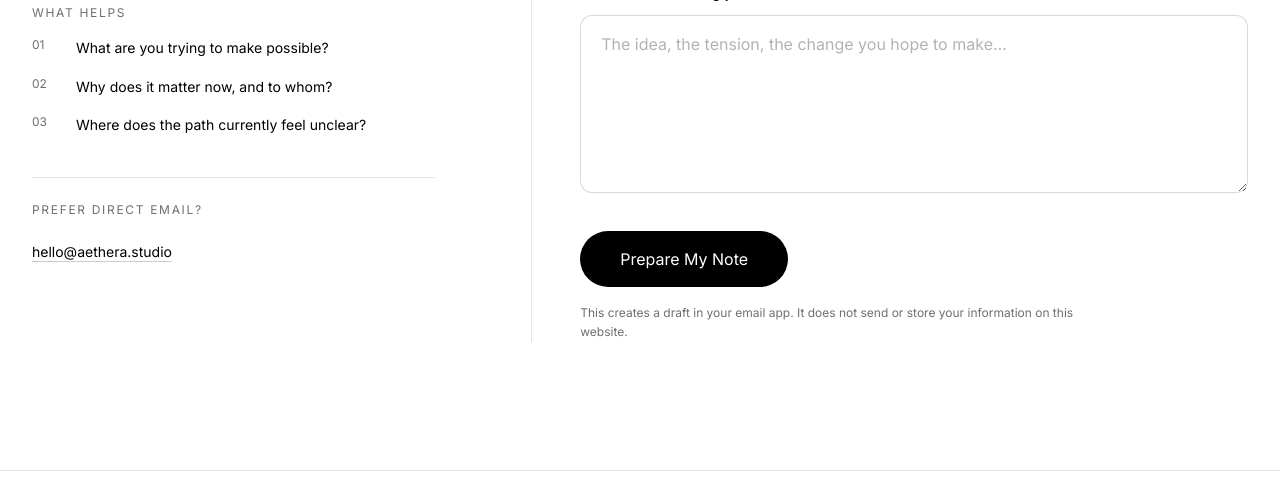
Test case: Reach Us contact form › reports every required field and focuses the first invalid control
(page scrolled)
Step 1. Click the button "Prepare My Note" → (684, 259), box [580,231,788,287]
(page scrolled)
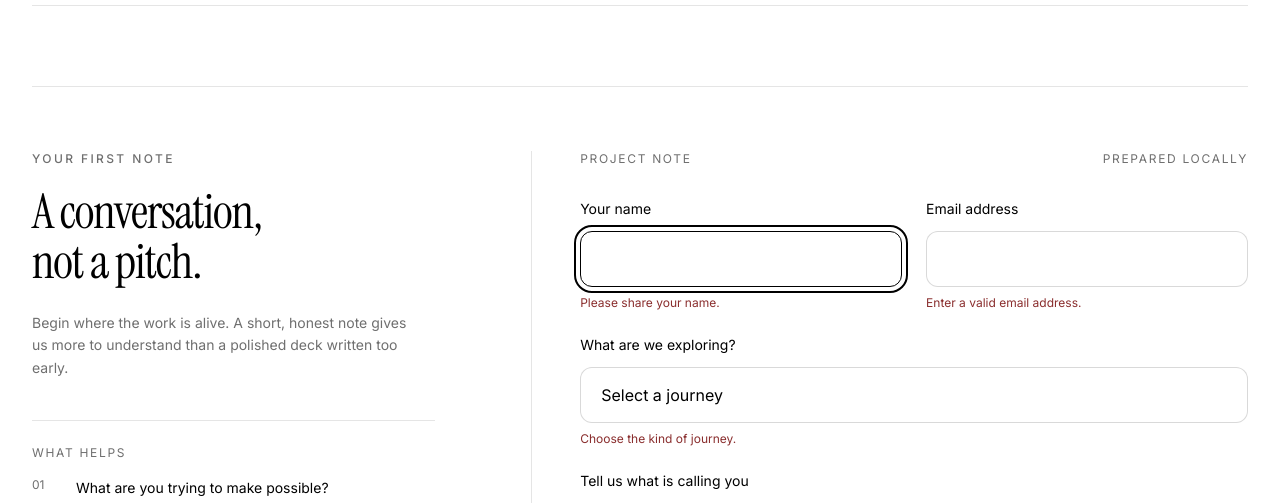
expect the number of messages is 4: met
expect the text "Enter a valid email address." is shown: met, box [926,295,1082,310]
expect the text "Choose the kind of journey." is shown: met, box [580,431,736,446]
Step 2. Type "Mira" into the field labelled "Your name" → (741, 259), box [580,231,902,287]
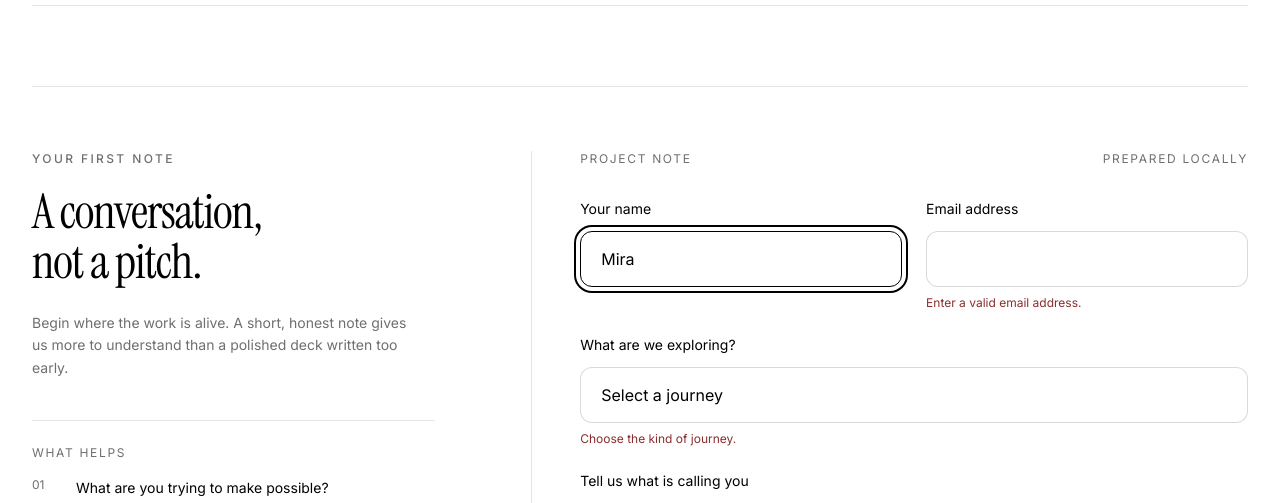
expect the number of messages is 3: met
expect the text "Please share your name." is gone: met
